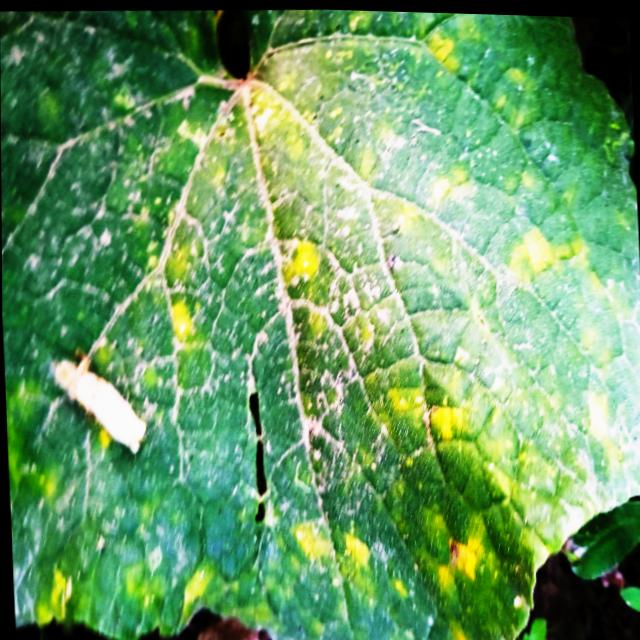Downy-Mildew: (0, 8, 640, 640)
